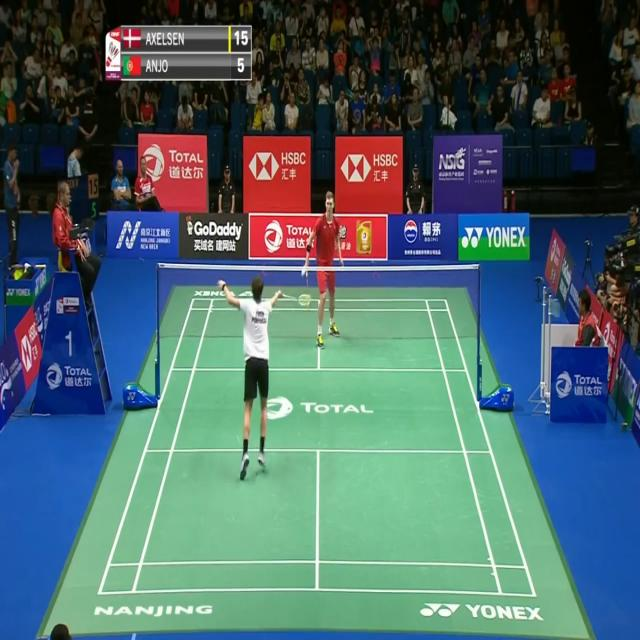Player1: (217, 273, 311, 475)
Player2: (298, 188, 352, 346)
